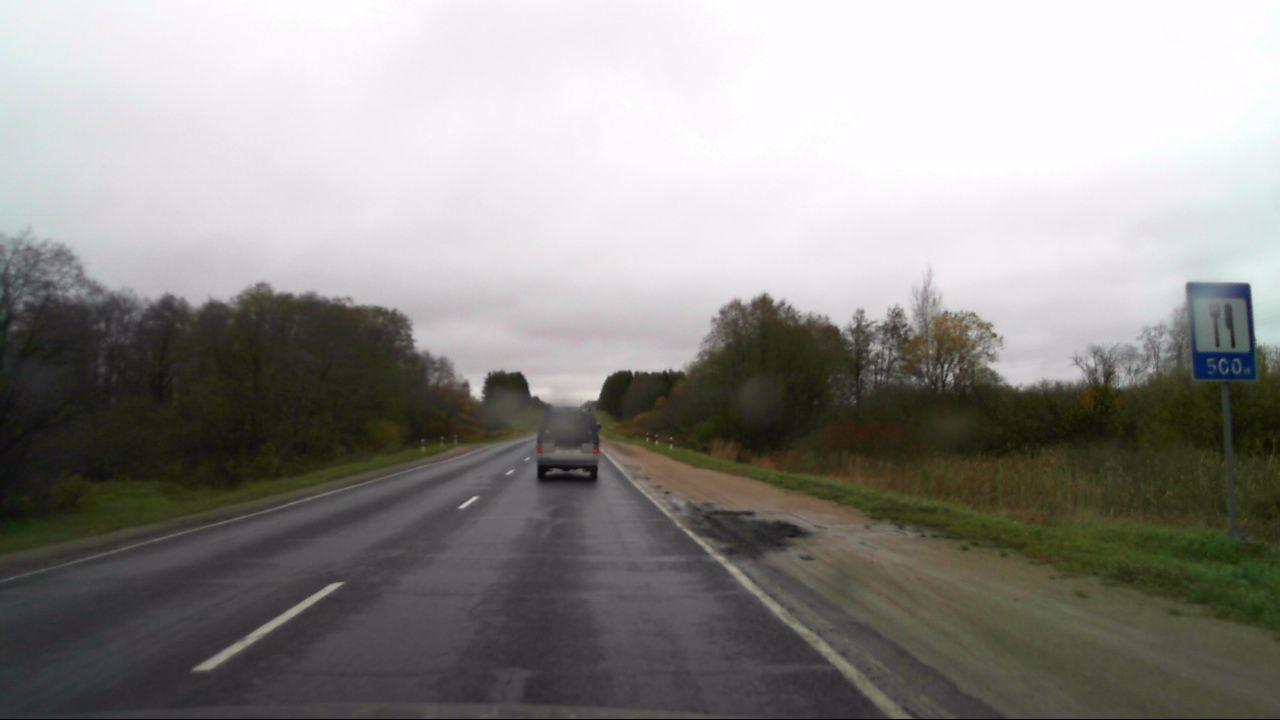7_7: (1186, 280, 1258, 383)
